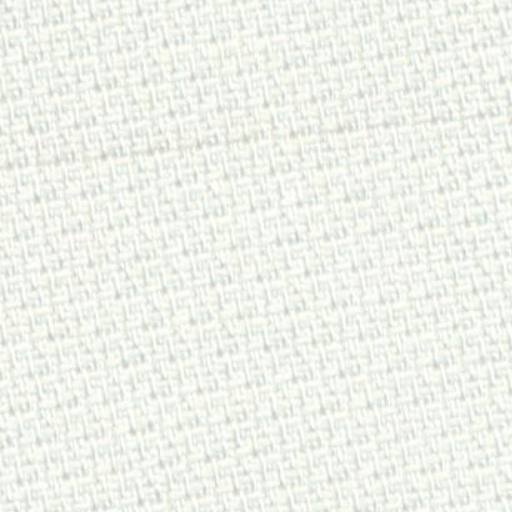WuZi: (96, 100, 504, 160)
